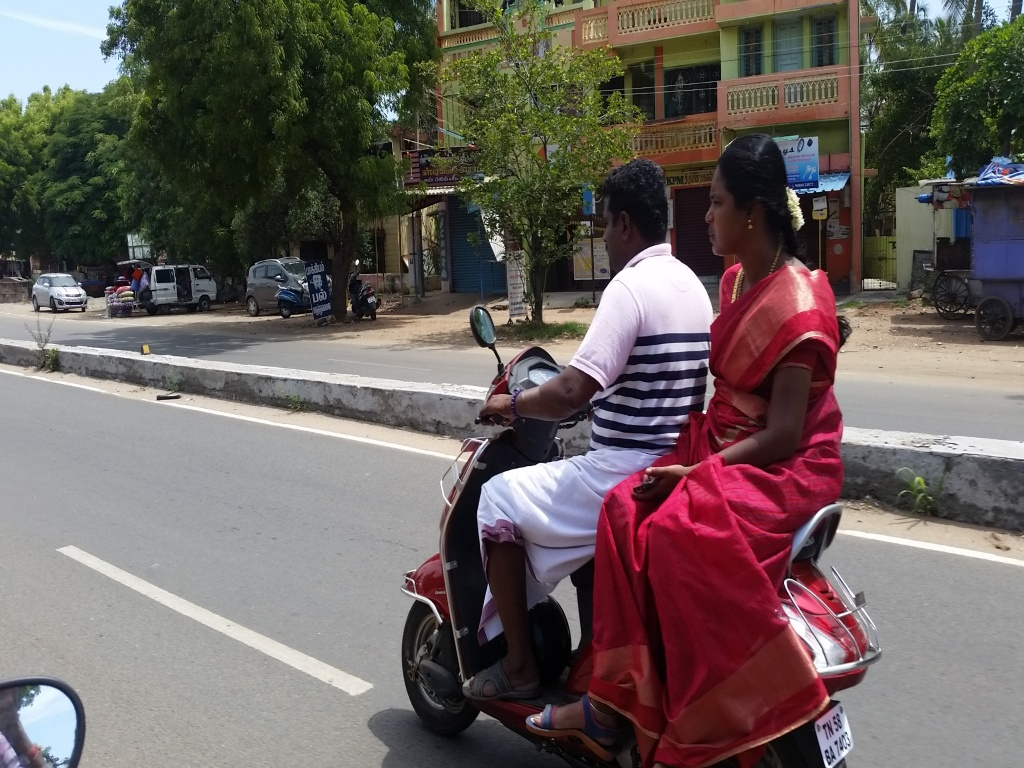biker: (383, 100, 903, 768)
nohelmet: (698, 121, 811, 280), (590, 148, 686, 285)
